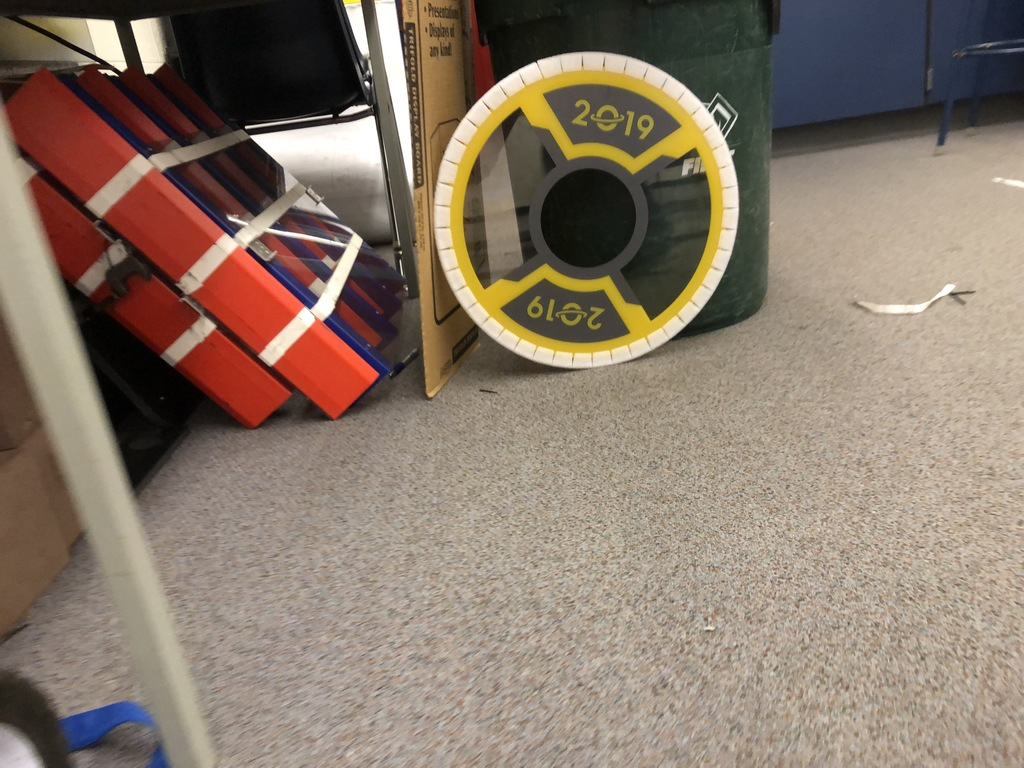hatch_panel: (420, 36, 769, 387)
